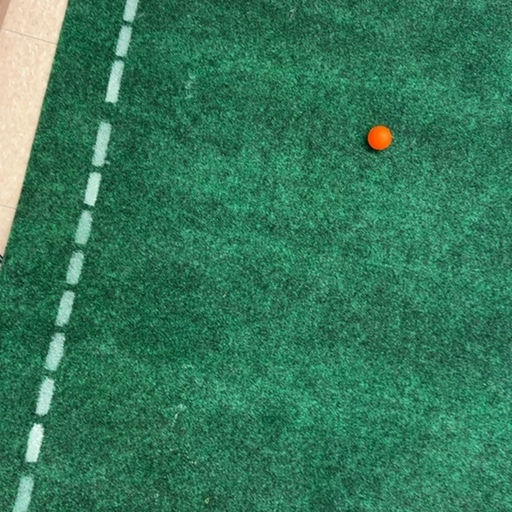Ball: (368, 126, 392, 150)
